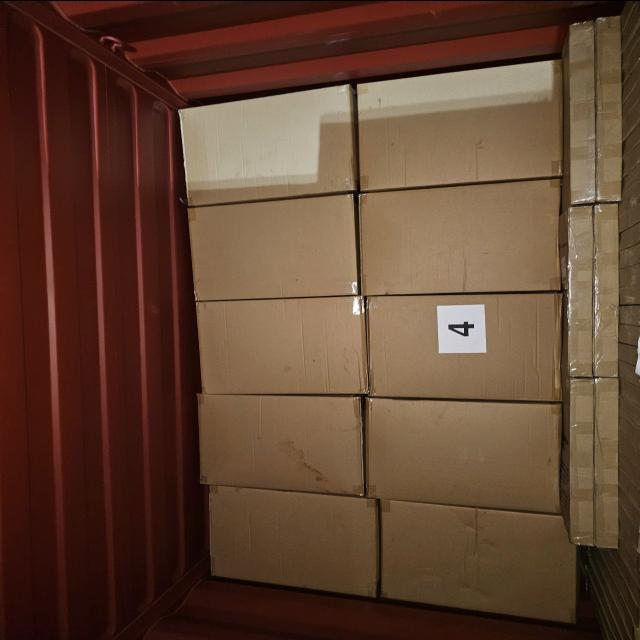Carton: (353, 74, 566, 190), (352, 180, 562, 290), (382, 510, 586, 623), (358, 292, 564, 398), (357, 404, 562, 507), (184, 96, 360, 206), (184, 193, 362, 297), (192, 296, 366, 396), (202, 488, 378, 586), (196, 392, 364, 491), (590, 12, 622, 204), (566, 18, 595, 204), (592, 202, 622, 376), (568, 376, 598, 546), (567, 205, 595, 378), (592, 375, 620, 547)
